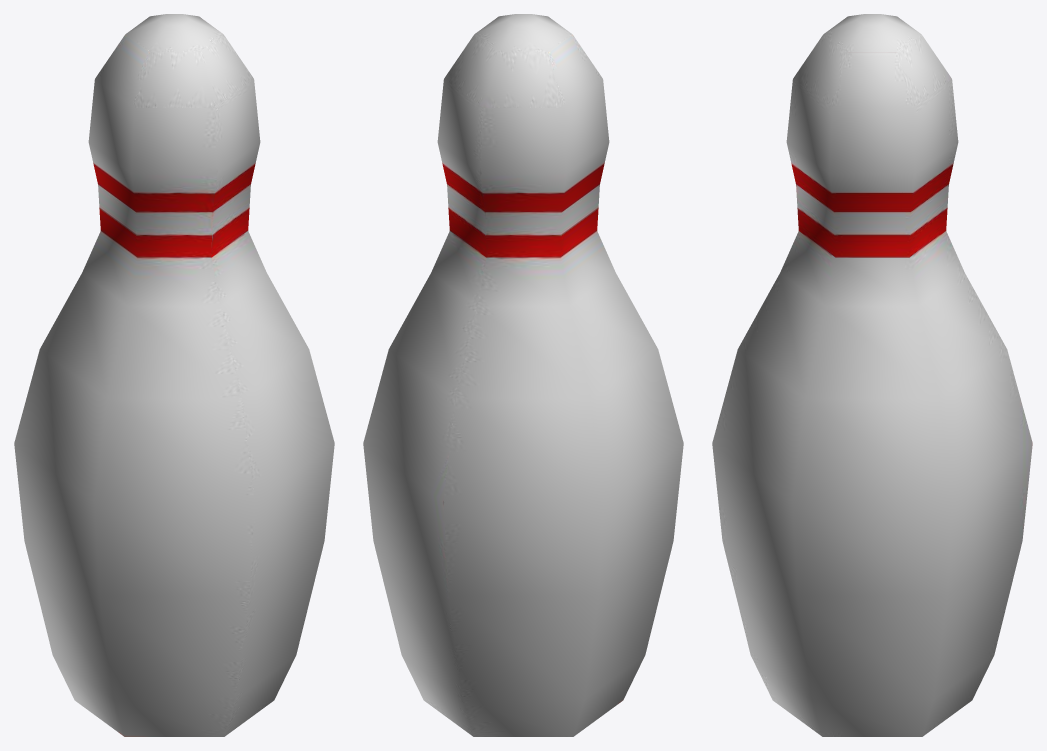
Rendered from bowl_pin.glb.
3 views of the same model, side by side, from view 1: azimuth 30°, elevation 25°; view 2: azimuth 150°, elevation 25°; view 3: azimuth 270°, elevation 25° (orthographic).
Visible parts, largest first — view 1: bowl_pin; view 2: bowl_pin; view 3: bowl_pin.
Boxes of the visible parts, bbox=[...] form: bowl_pin: bbox=[14, 14, 334, 736]; bowl_pin: bbox=[363, 14, 683, 736]; bowl_pin: bbox=[712, 14, 1032, 736].
Size of the model in its own units: 0.152 by 0.411 by 0.1755.
Materials: 1 (1 with a texture image).
